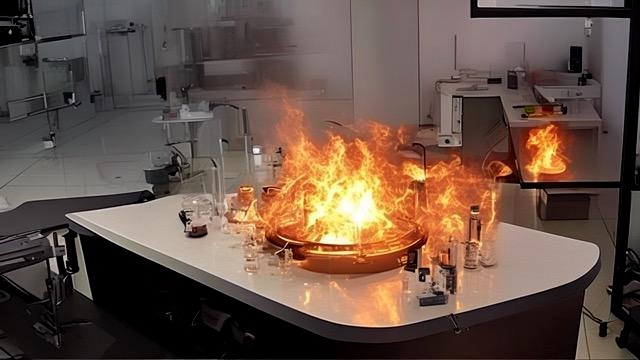fire: (227, 113, 575, 286)
